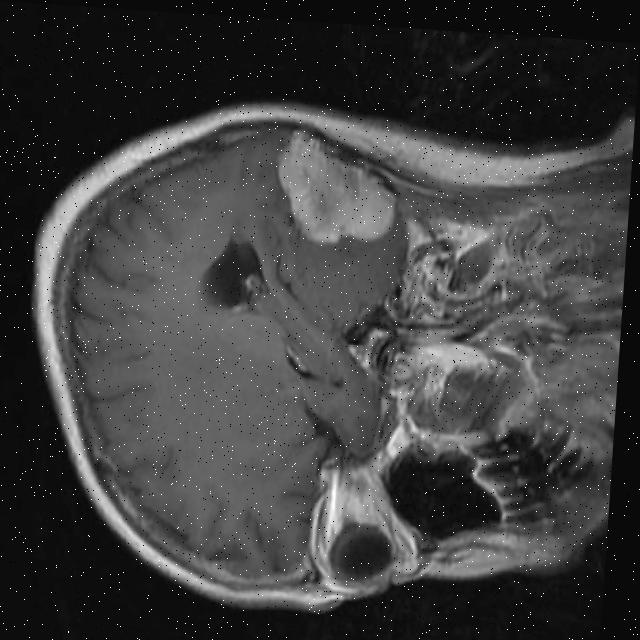Meningioma: (270, 128, 400, 250)
